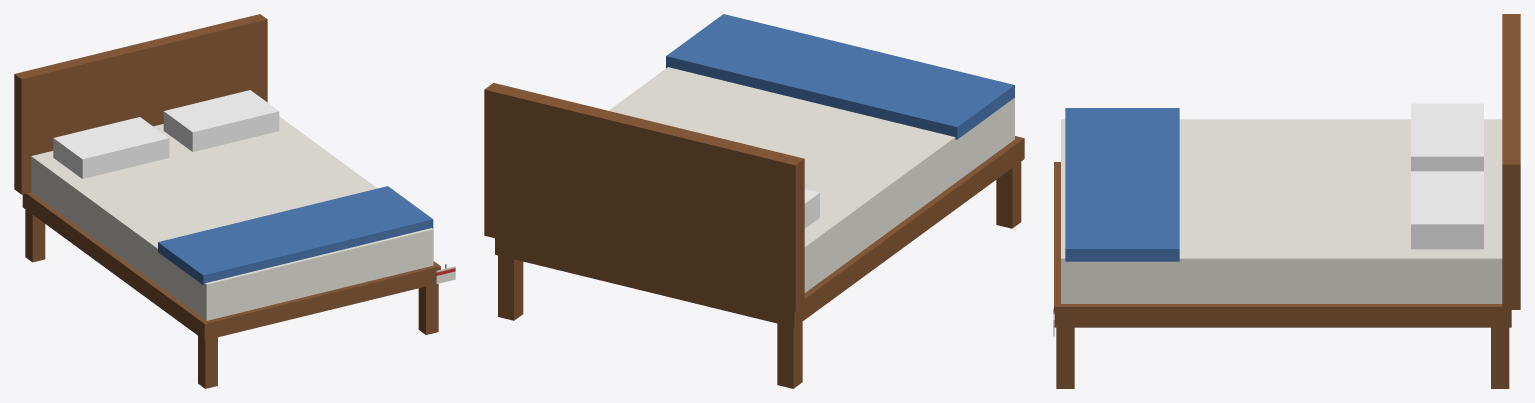
File: showroom_bed.glb
3 renders of one model, left to right at view 1: azimuth 30°, elevation 25°; view 2: azimuth 150°, elevation 25°; view 3: azimuth 270°, elevation 25°, orthographic. The views are drawn at different scales.
Parts seen in each view (by area): view 1: mattress_bed_sheet, headboard_bed_wood, blanket_bed_blanket, pillow_bed_pillow (×2), frame_bed_wood, leg_bed_wood; view 2: headboard_bed_wood, mattress_bed_sheet, blanket_bed_blanket, frame_bed_wood, leg_bed_wood, pillow_bed_pillow; view 3: mattress_bed_sheet, blanket_bed_blanket, frame_bed_wood, pillow_bed_pillow (×2), headboard_bed_wood, leg_bed_wood.
Part boxes in pixels (<box>): mattress_bed_sheet: <box>31,116,433,320</box>; headboard_bed_wood: <box>14,14,267,194</box>; blanket_bed_blanket: <box>158,186,433,285</box>; pillow_bed_pillow (×2): <box>53,90,279,178</box>; frame_bed_wood: <box>22,192,440,340</box>; leg_bed_wood: <box>25,209,438,388</box>; headboard_bed_wood: <box>484,83,804,311</box>; mattress_bed_sheet: <box>608,67,1014,292</box>; blanket_bed_blanket: <box>666,14,1014,139</box>; frame_bed_wood: <box>495,136,1024,327</box>; leg_bed_wood: <box>498,162,1021,388</box>; pillow_bed_pillow: <box>804,189,819,228</box>; mattress_bed_sheet: <box>1061,119,1502,303</box>; blanket_bed_blanket: <box>1065,108,1179,261</box>; frame_bed_wood: <box>1054,162,1511,327</box>; pillow_bed_pillow (×2): <box>1411,103,1483,249</box>; headboard_bed_wood: <box>1502,14,1520,309</box>; leg_bed_wood: <box>1056,327,1509,388</box>.
Bounding box in the file's own units: 1.62 × 1.1 × 2.04.
